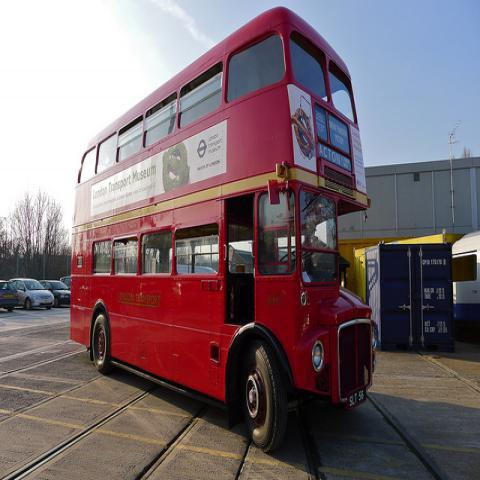bus: (65, 5, 376, 456)
car: (10, 280, 54, 310), (40, 280, 72, 310), (0, 279, 19, 312), (61, 277, 71, 291)
